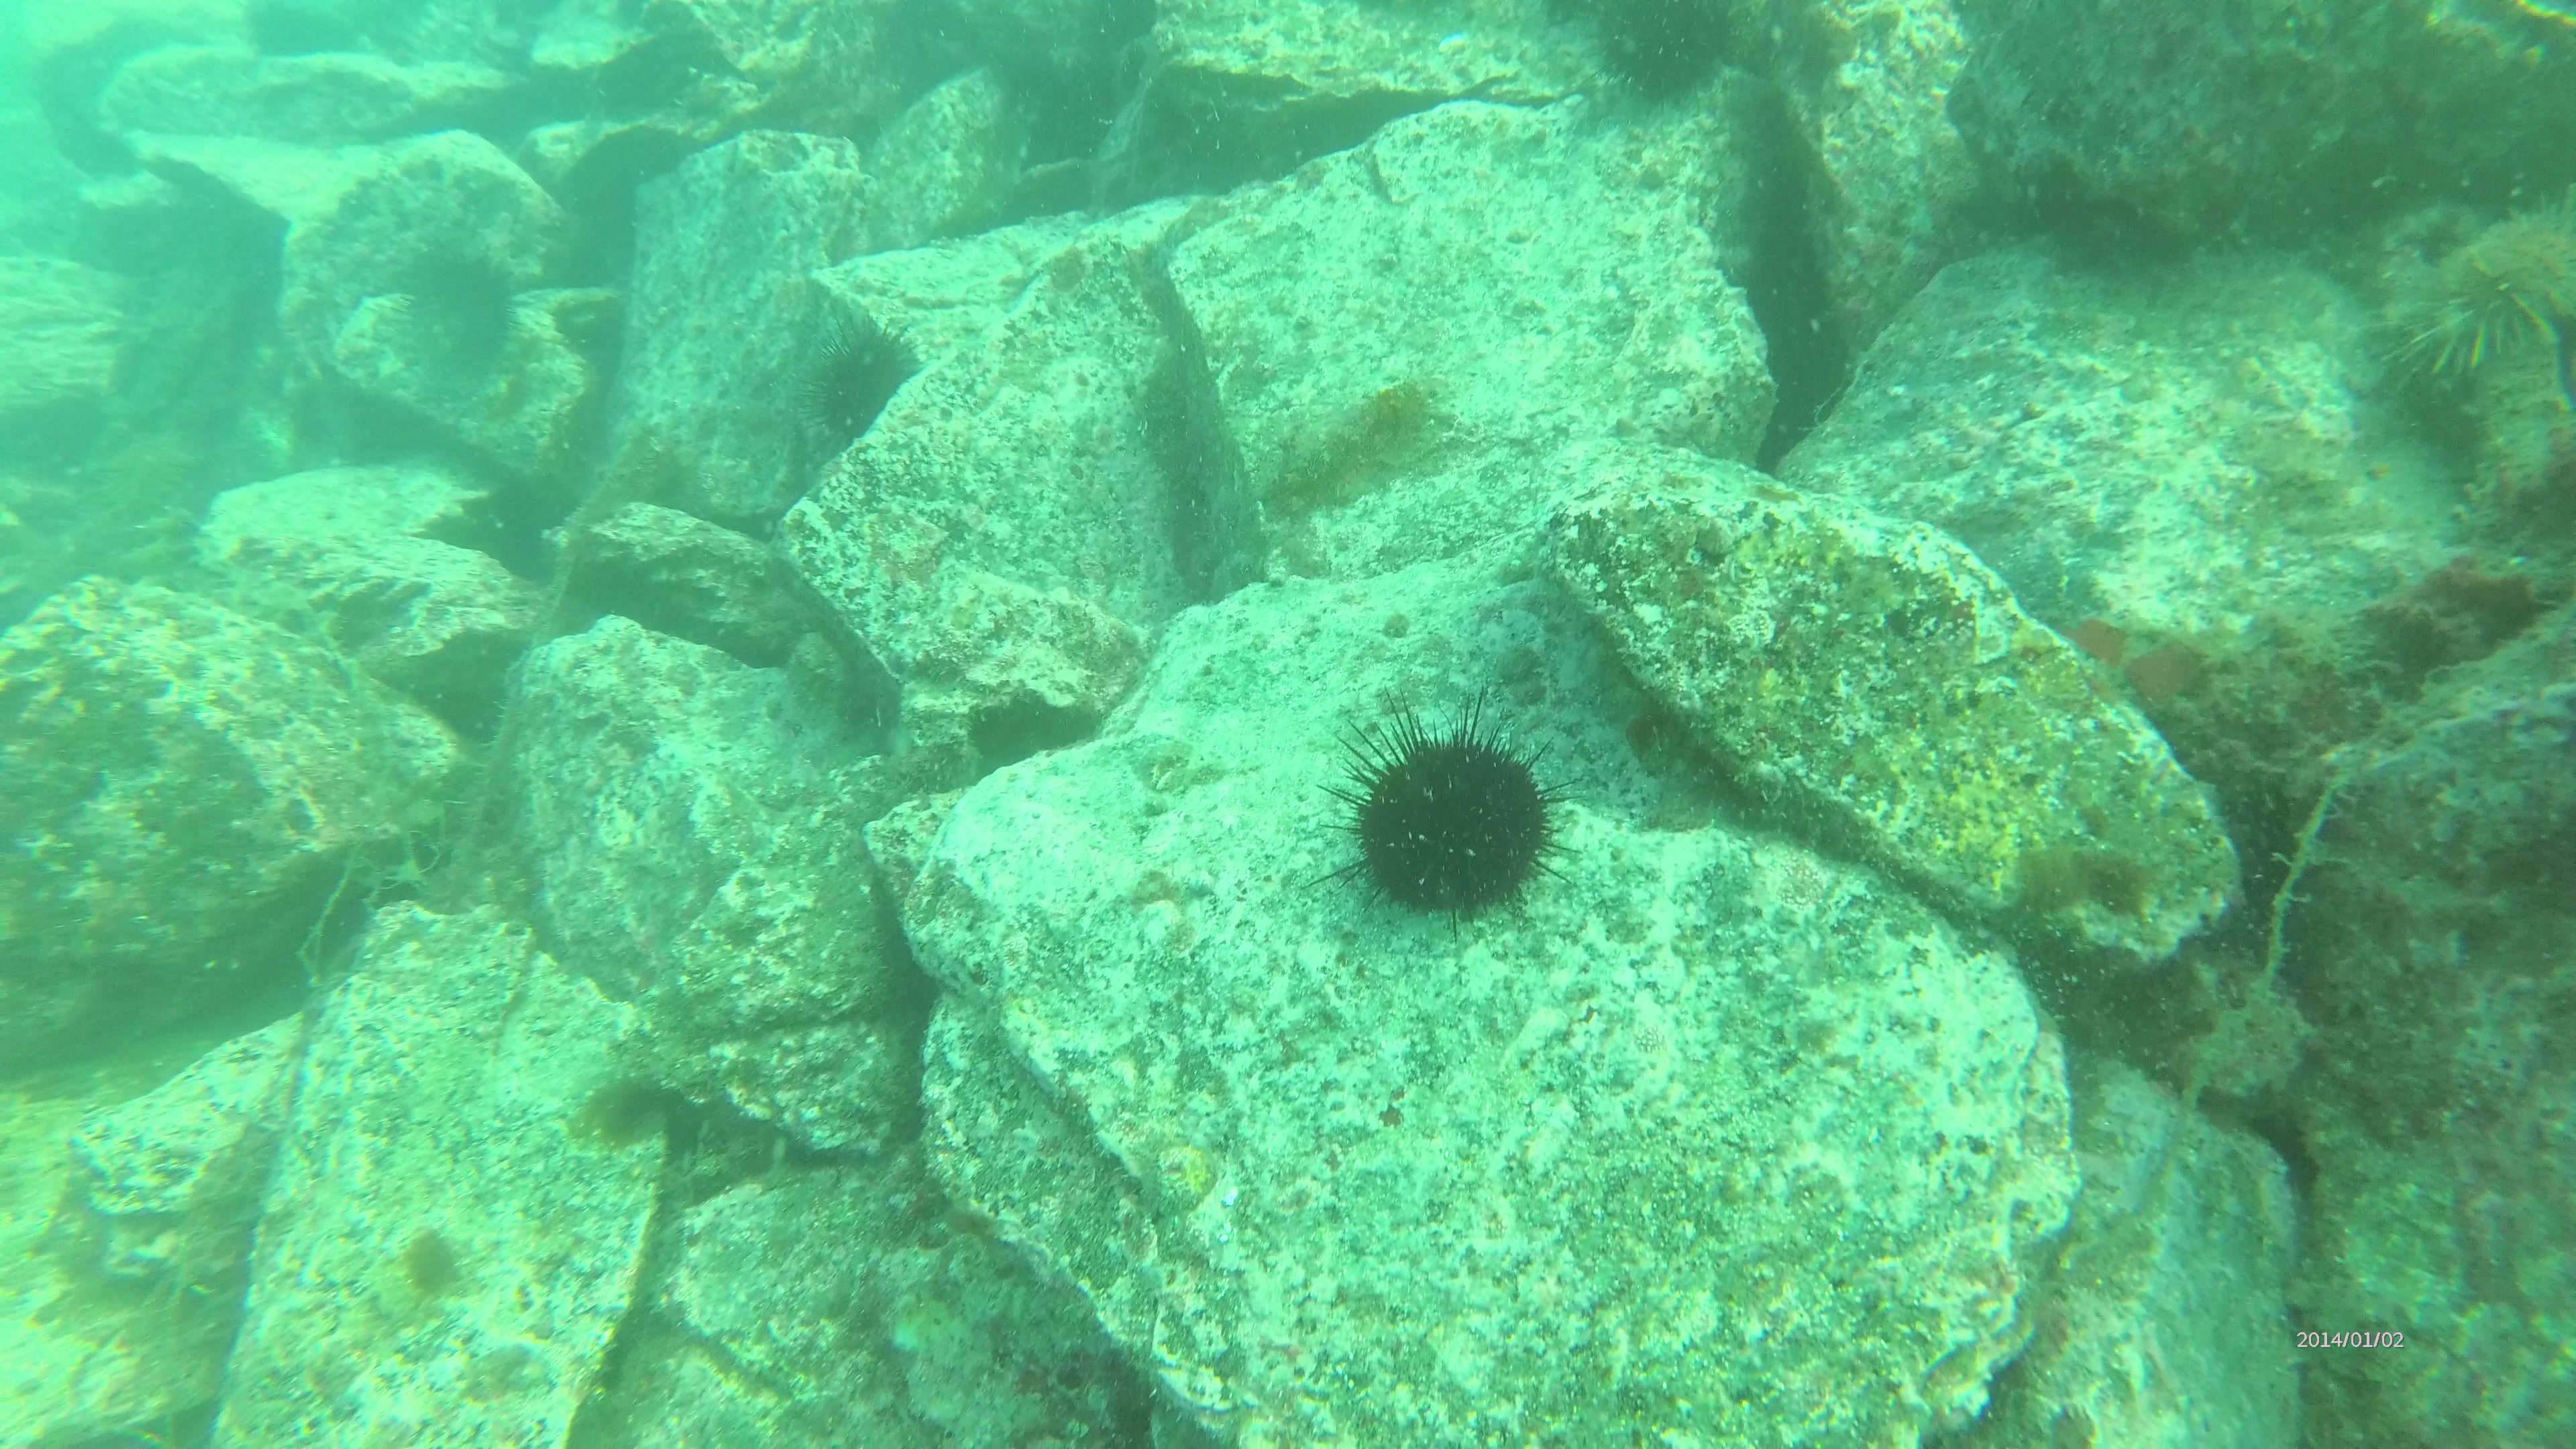echinus: (1292, 679, 1605, 977), (2378, 189, 2576, 412), (403, 241, 534, 384), (1569, 0, 1766, 92), (824, 326, 911, 453)
